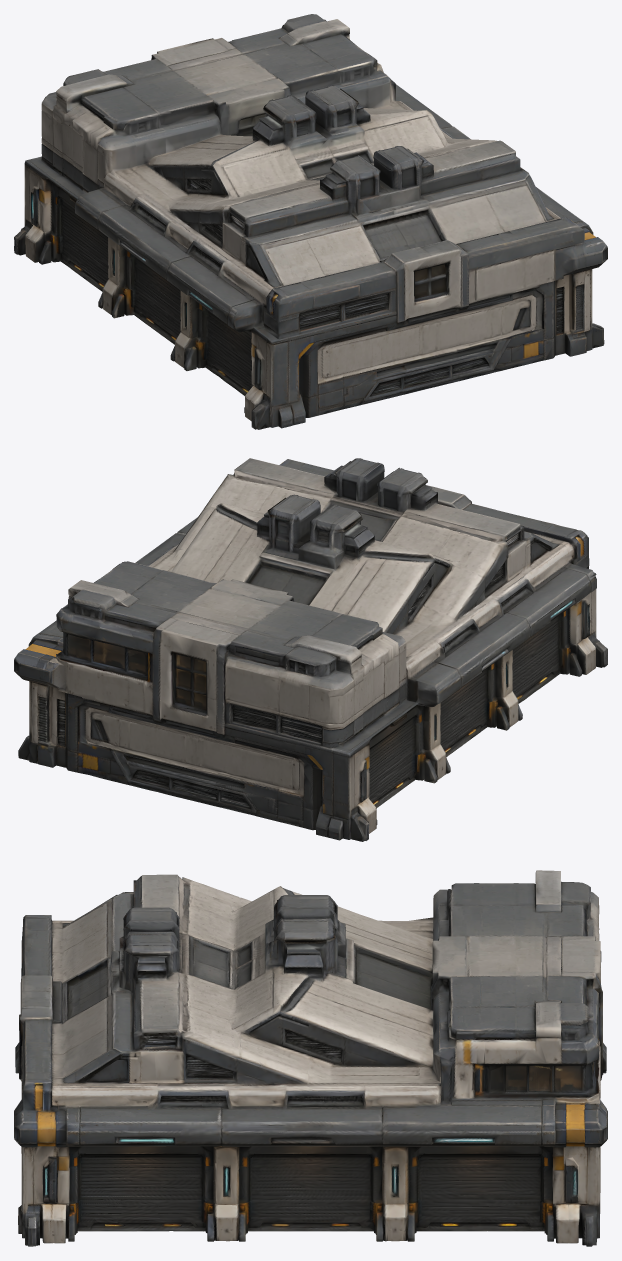
File: kairox-service-depot.glb
3 views of the same model, one above another, from view 1: azimuth 30°, elevation 25°; view 2: azimuth 150°, elevation 25°; view 3: azimuth 270°, elevation 25° (orthographic). The views are drawn at different scales.
Visible parts, largest first — view 1: kairox-service-depot; view 2: kairox-service-depot; view 3: kairox-service-depot.
Boxes of the visible parts, <box> form: kairox-service-depot: <box>14,14,607,429</box>; kairox-service-depot: <box>14,458,607,841</box>; kairox-service-depot: <box>14,870,607,1246</box>.
Size of the model in its own units: 18.81 by 10 by 22.99.
1 material, 1 textured.
